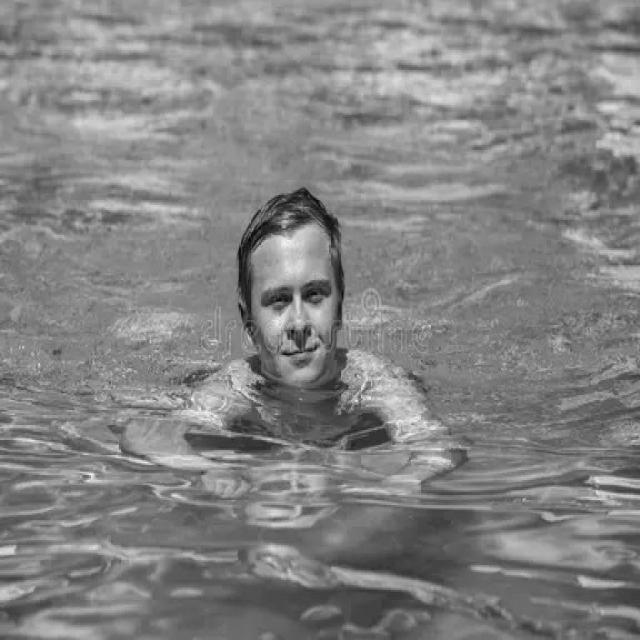swimming: (143, 180, 466, 568)
